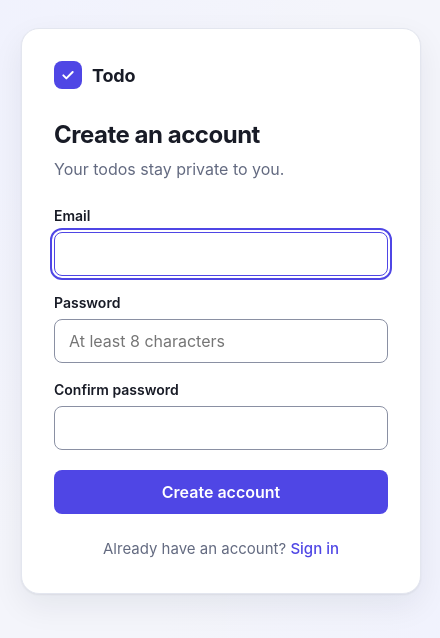
Test: registration › requires the passwords to match
The image size is (440, 638).
Type "bob@example.com" into the field labelled "Email" at coordinates (221, 254), box x1=54 y1=232 x2=388 y2=276
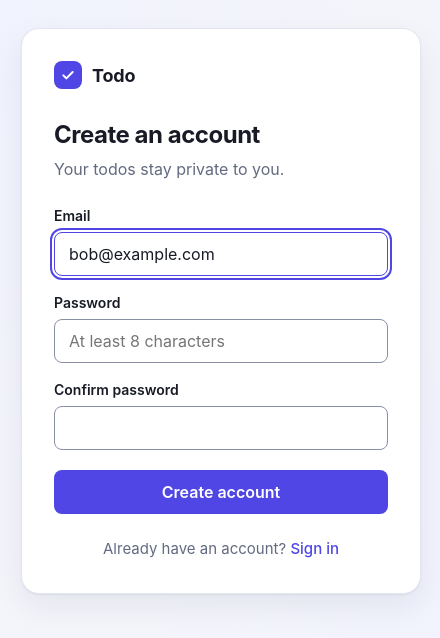
Type "password123" into the password field labelled "Password" at coordinates (221, 341), box x1=54 y1=319 x2=388 y2=363
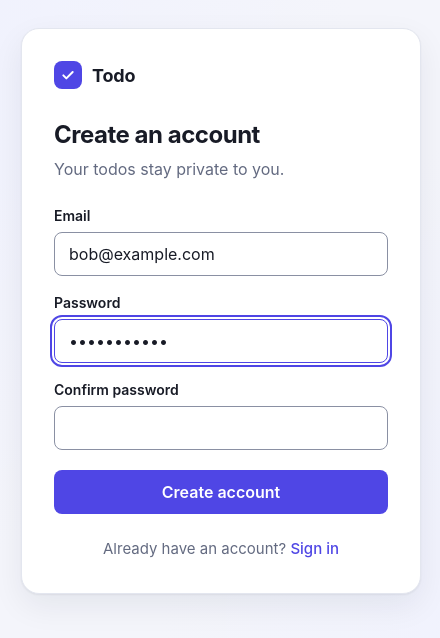
Type "password124" into the password field labelled "Confirm password" at coordinates (221, 428), box x1=54 y1=406 x2=388 y2=450
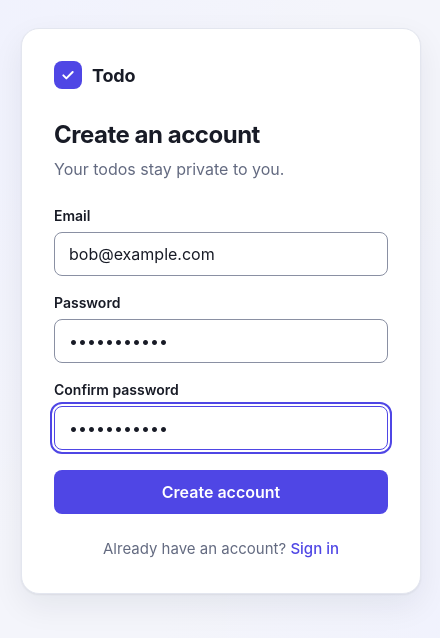
Click the button "Create account" at coordinates (221, 492), box x1=54 y1=470 x2=388 y2=514
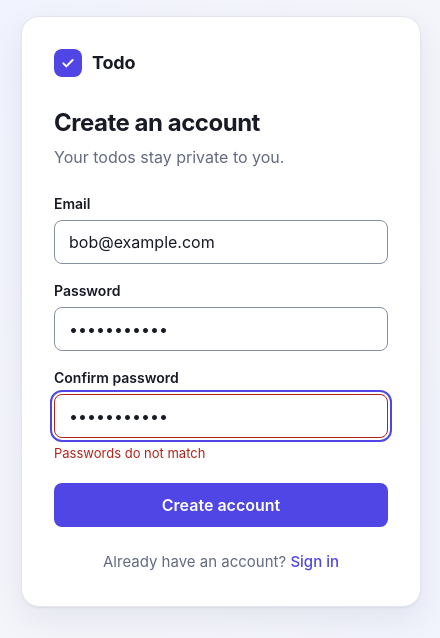
Expected: the text "Passwords do not match" is shown, x1=54 y1=444 x2=205 y2=460
